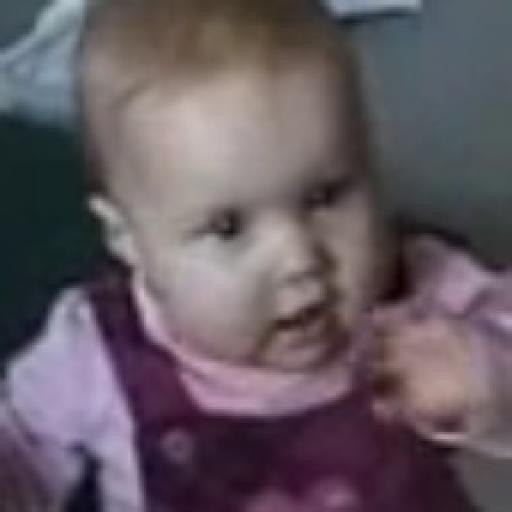Autism: (102, 26, 493, 460)
